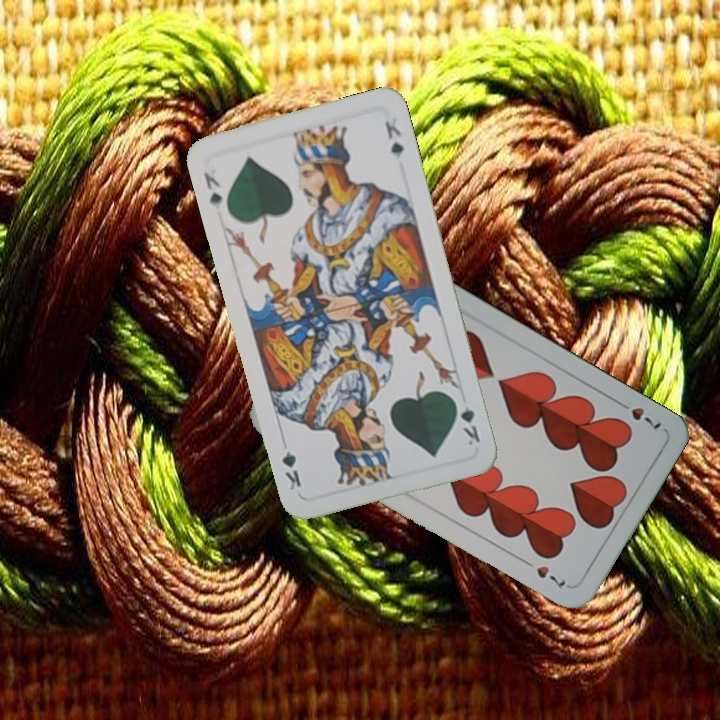GK: (450, 394, 483, 448), (199, 168, 225, 212)
H7: (612, 396, 664, 435)
